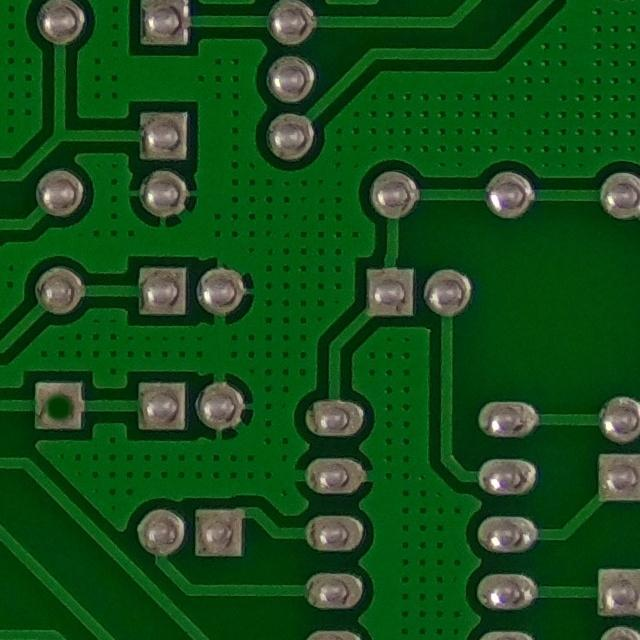missing_hole: (28, 374, 90, 440)
